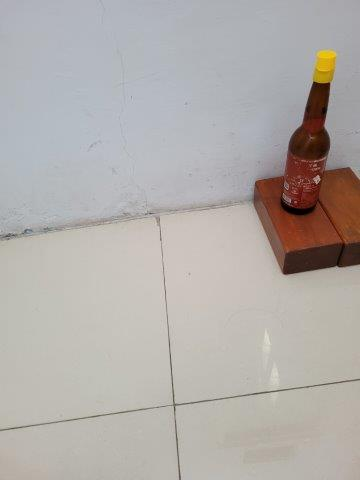botolkaca: (280, 53, 336, 213)
